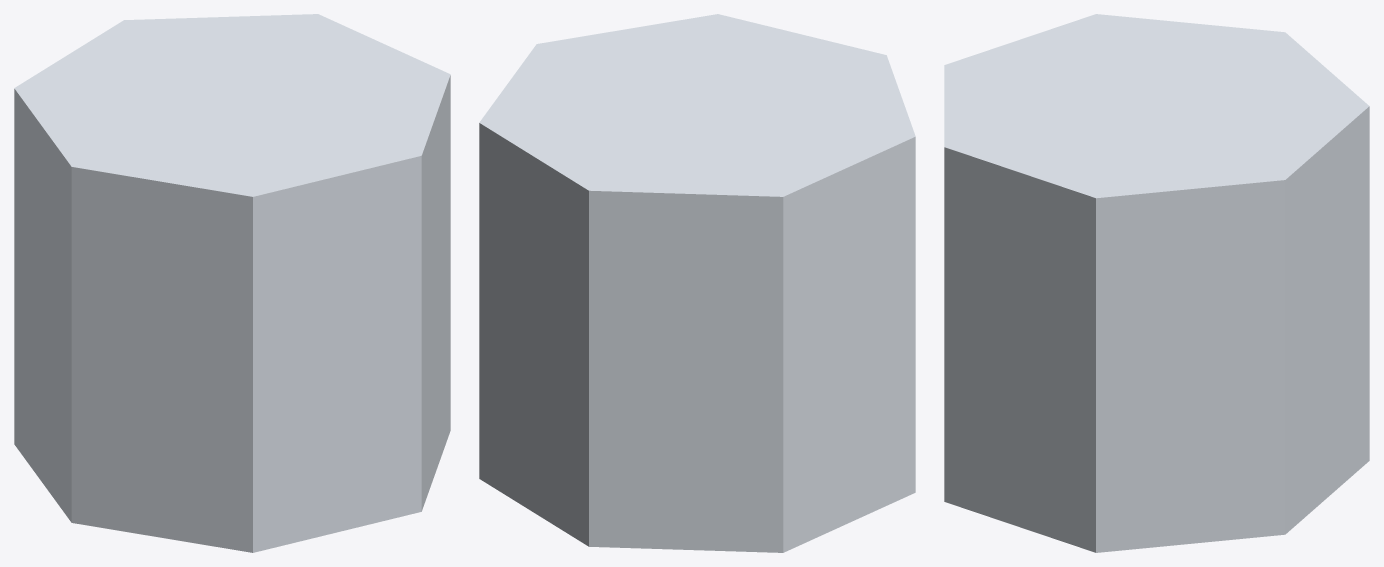
File: marshmallow.fbx
3 views of the same model, side by side, from view 1: azimuth 30°, elevation 25°; view 2: azimuth 150°, elevation 25°; view 3: azimuth 270°, elevation 25° (orthographic).
Visible parts, largest first — view 1: marshmallow; view 2: marshmallow; view 3: marshmallow.
Part boxes in pixels (box(x1,y1,x2,y2)): marshmallow: box(14, 14, 450, 552); marshmallow: box(479, 14, 915, 552); marshmallow: box(944, 14, 1369, 552).
Bounding box in the file's own units: 60 × 53.85 × 58.5.
